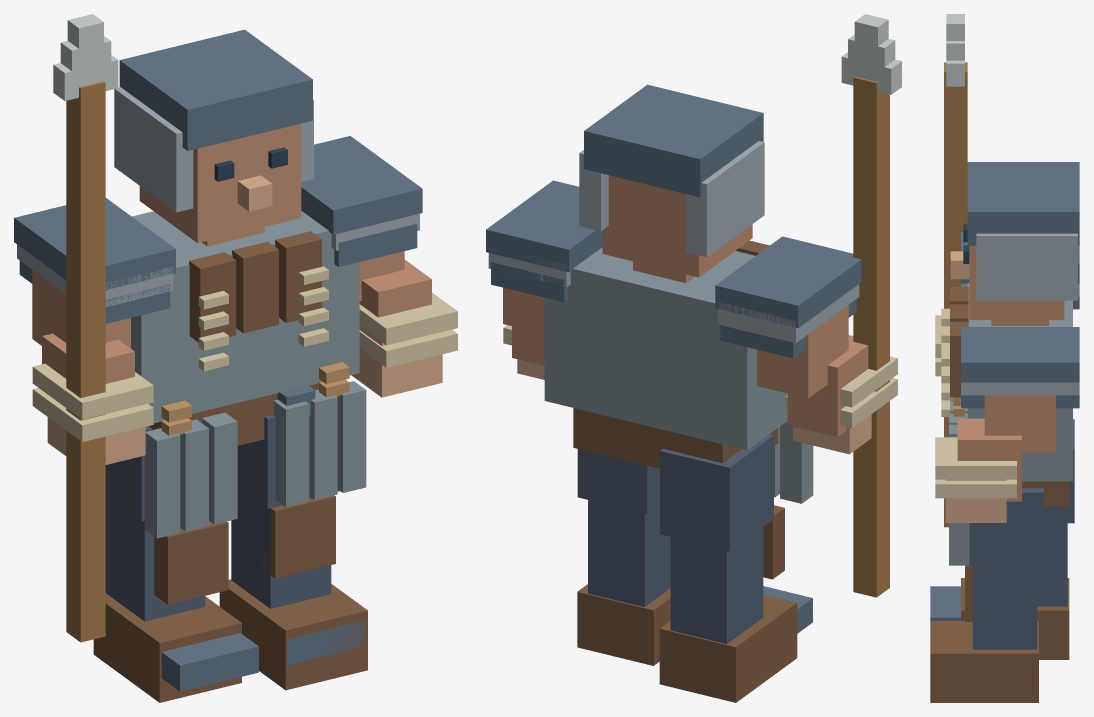
Rendered from arena-q-spear.glb.
3 renders of one model, left to right at view 1: azimuth 30°, elevation 25°; view 2: azimuth 150°, elevation 25°; view 3: azimuth 270°, elevation 25°, orthographic. The views are drawn at different scales.
Parts seen in each view (by area): view 1: Weapon, Helmet, Boots, Shoulders, Cloth, Skirt, Legs, Wraps, Head, Greaves, Vest, Arms (+4 smaller); view 2: Cloth, Legs, Shoulders, Helmet, Weapon, Boots, Arms, Head, Belt, Wraps, Skirt, Hands (+1 smaller); view 3: Helmet, Legs, Boots, Shoulders, Weapon, Arms, Wraps, Cloth, Head, Hands, Vest, Skirt (+4 smaller).
Boxes of the visible parts, left/top/right/bottom form: Weapon: left=53, top=14, right=118, bottom=642; Helmet: left=114, top=29, right=313, bottom=212; Boots: left=93, top=579, right=367, bottom=702; Shoulders: left=14, top=136, right=422, bottom=323; Cloth: left=131, top=211, right=359, bottom=423; Skirt: left=144, top=381, right=366, bottom=538; Legs: left=105, top=414, right=340, bottom=621; Wraps: left=32, top=292, right=457, bottom=442; Head: left=139, top=123, right=301, bottom=246; Greaves: left=154, top=495, right=335, bottom=604; Vest: left=189, top=231, right=321, bottom=342; Arms: left=32, top=251, right=431, bottom=383; Cloth: left=544, top=247, right=787, bottom=450; Legs: left=577, top=434, right=773, bottom=643; Shoulders: left=486, top=180, right=861, bottom=358; Helmet: left=579, top=84, right=764, bottom=257; Weapon: left=841, top=14, right=901, bottom=597; Boots: left=577, top=584, right=812, bottom=702; Arms: left=503, top=287, right=868, bottom=437; Head: left=602, top=175, right=752, bottom=282; Belt: left=573, top=408, right=778, bottom=468; Wraps: left=503, top=325, right=897, bottom=428; Skirt: left=774, top=421, right=813, bottom=503; Hands: left=517, top=359, right=871, bottom=454; Helmet: left=967, top=162, right=1079, bottom=300; Legs: left=966, top=419, right=1074, bottom=649; Boots: left=930, top=578, right=1069, bottom=702; Shoulders: left=961, top=231, right=1079, bottom=408; Weapon: left=944, top=14, right=967, bottom=527; Arms: left=957, top=395, right=1055, bottom=501; Wraps: left=935, top=315, right=1016, bottom=498; Cloth: left=967, top=283, right=1072, bottom=481; Head: left=969, top=246, right=1064, bottom=325; Hands: left=945, top=397, right=1006, bottom=522; Vest: left=950, top=287, right=968, bottom=397; Skirt: left=949, top=401, right=969, bottom=565.
Bounding box in the file's own units: 1.04 × 1.8 × 0.4218.
